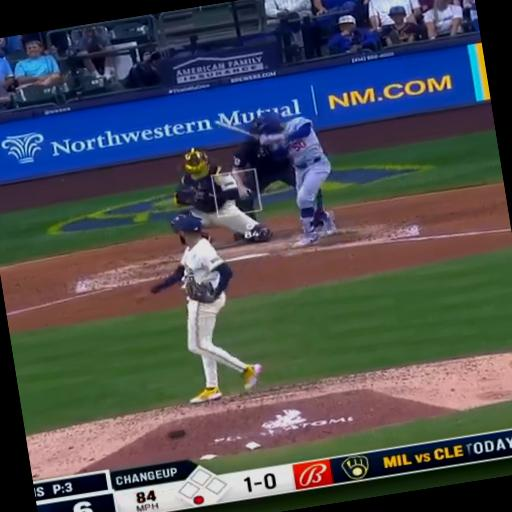bat: (214, 121, 258, 138)
